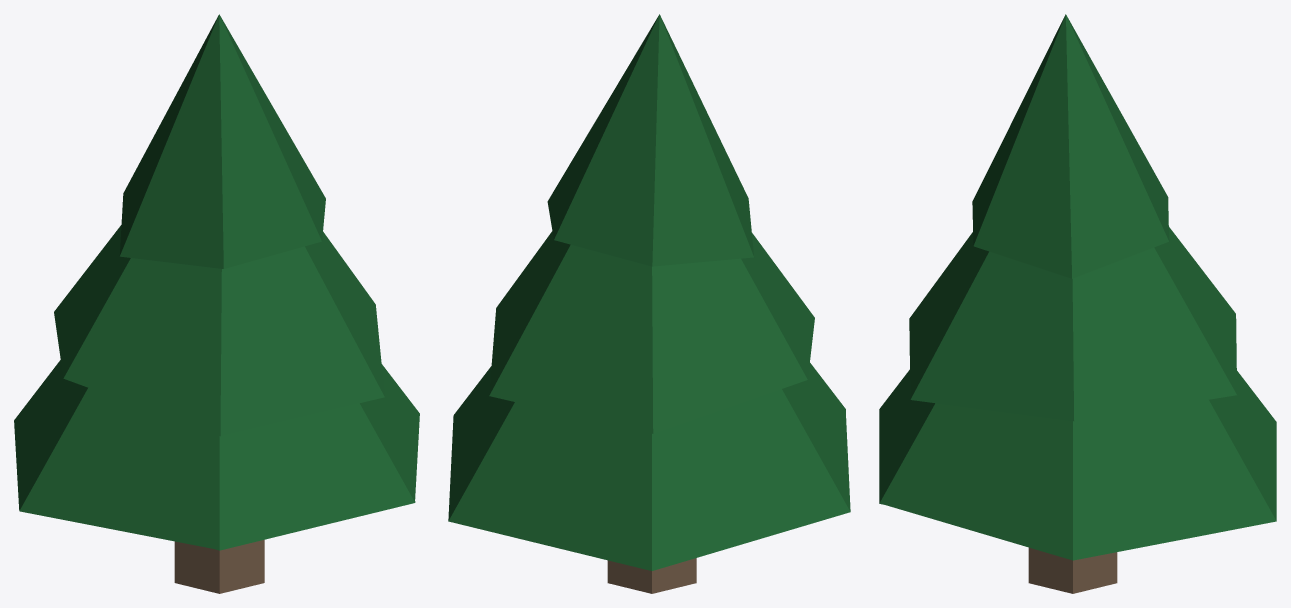
Rendered from Hilly_Prop_Tree_Pine_3.obj.
The picture shows the model from 3 angles, left to right: view 1: azimuth 30°, elevation 25°; view 2: azimuth 150°, elevation 25°; view 3: azimuth 270°, elevation 25°; orthographic projection.
Parts seen in each view (by area): view 1: object2, object3, object1, object4; view 2: object2, object3, object1, object4; view 3: object2, object3, object1, object4.
Boxes of the visible parts, box(x1,y1,x2,y2) form: object2: box(14, 360, 419, 550); object3: box(54, 225, 384, 436); object1: box(119, 14, 325, 268); object4: box(174, 539, 264, 593); object2: box(448, 363, 850, 570); object3: box(489, 231, 814, 433); object1: box(547, 14, 753, 266); object4: box(607, 558, 696, 593); object2: box(879, 369, 1276, 560); object3: box(909, 227, 1237, 421); object1: box(972, 14, 1169, 278); object4: box(1028, 547, 1117, 593).
Size of the model in its own units: 2.49 by 3.33 by 2.16.
